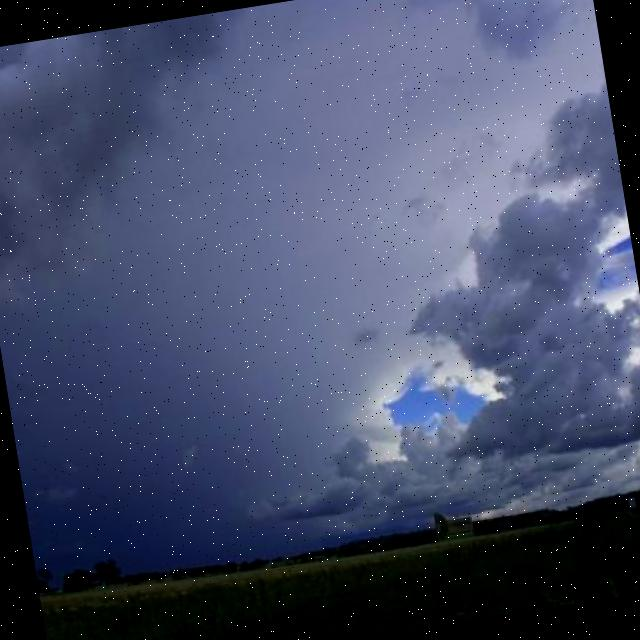Cu: (1, 30, 640, 506)
